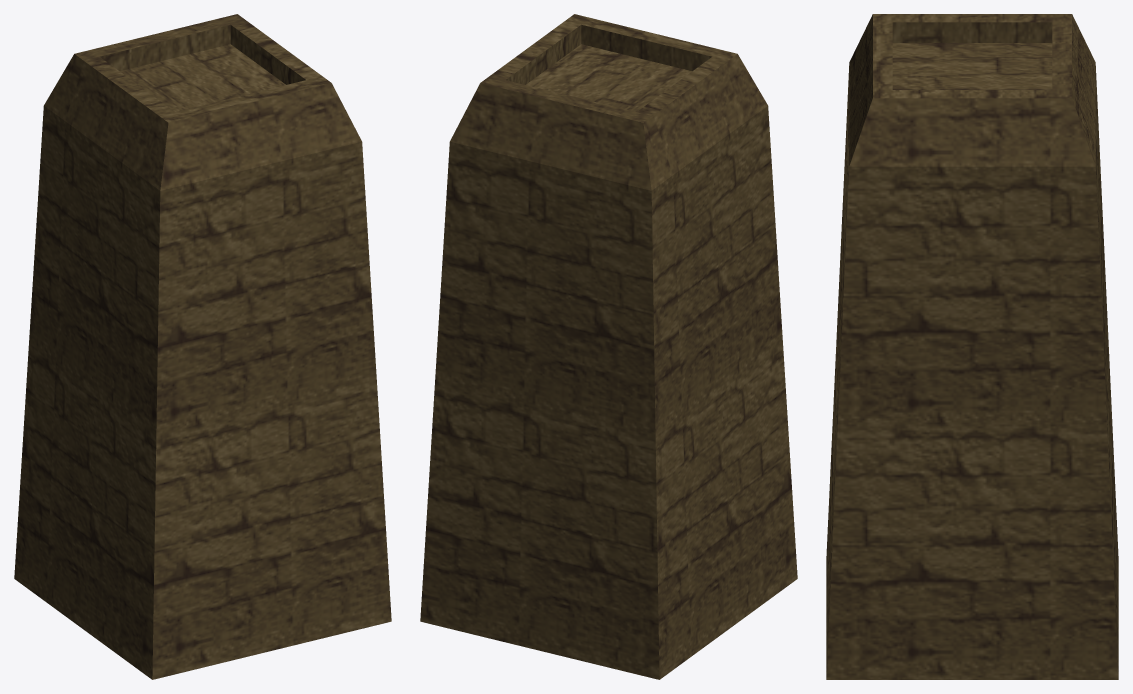
The model's file is Aztec Tower.obj.
The picture shows the model from 3 angles, left to right: view 1: azimuth 30°, elevation 25°; view 2: azimuth 150°, elevation 25°; view 3: azimuth 270°, elevation 25°; orthographic projection. The views are drawn at different scales.
Parts seen in each view (by area): view 1: Cube_Cube.002; view 2: Cube_Cube.002; view 3: Cube_Cube.002.
Boxes of the visible parts, <box> form: Cube_Cube.002: <box>14,14,391,679</box>; Cube_Cube.002: <box>420,14,797,679</box>; Cube_Cube.002: <box>826,14,1118,679</box>.
Size of the model in its own units: 0.4289 by 0.9109 by 0.4289.
Materials: 1 (1 with a texture image).
